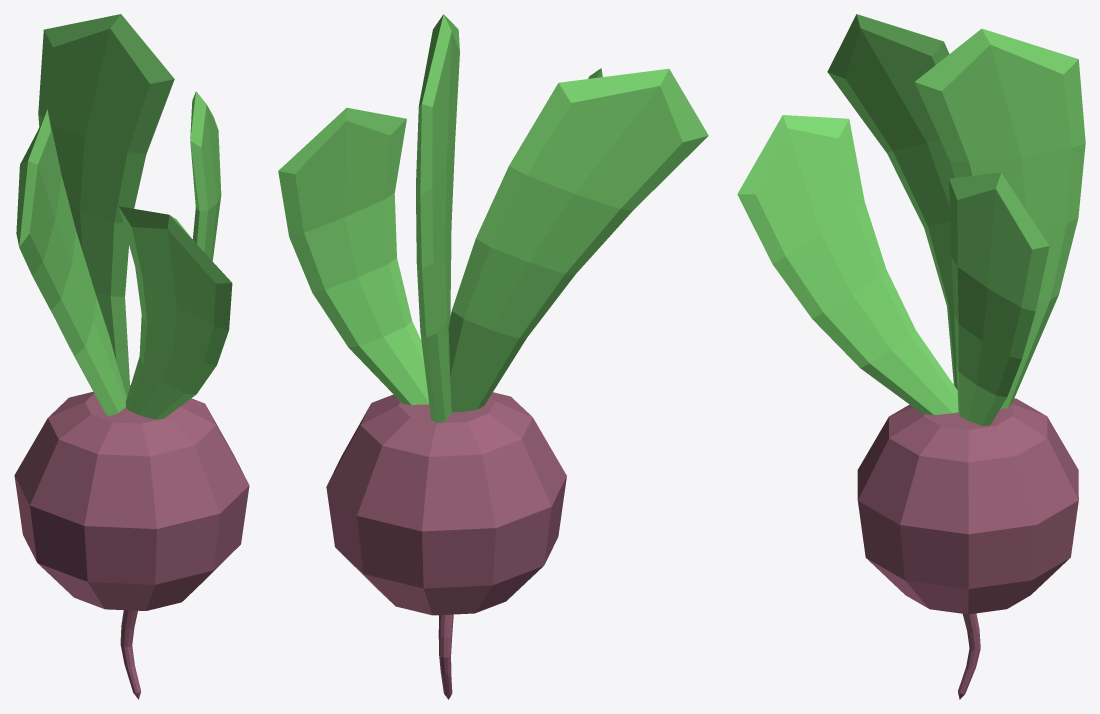
File: turnip.fbx
The picture shows the model from 3 angles, left to right: view 1: azimuth 30°, elevation 25°; view 2: azimuth 150°, elevation 25°; view 3: azimuth 270°, elevation 25°; orthographic projection. The views are drawn at different scales.
Visible parts, largest first — view 1: pCube5; view 2: pCube5; view 3: pCube5.
Part boxes in pixels (box(x1,y1,x2,y2)): pCube5: box(14, 14, 249, 699); pCube5: box(278, 14, 708, 699); pCube5: box(737, 14, 1085, 699).
Size of the model in its own units: 3.01 by 6.34 by 3.
